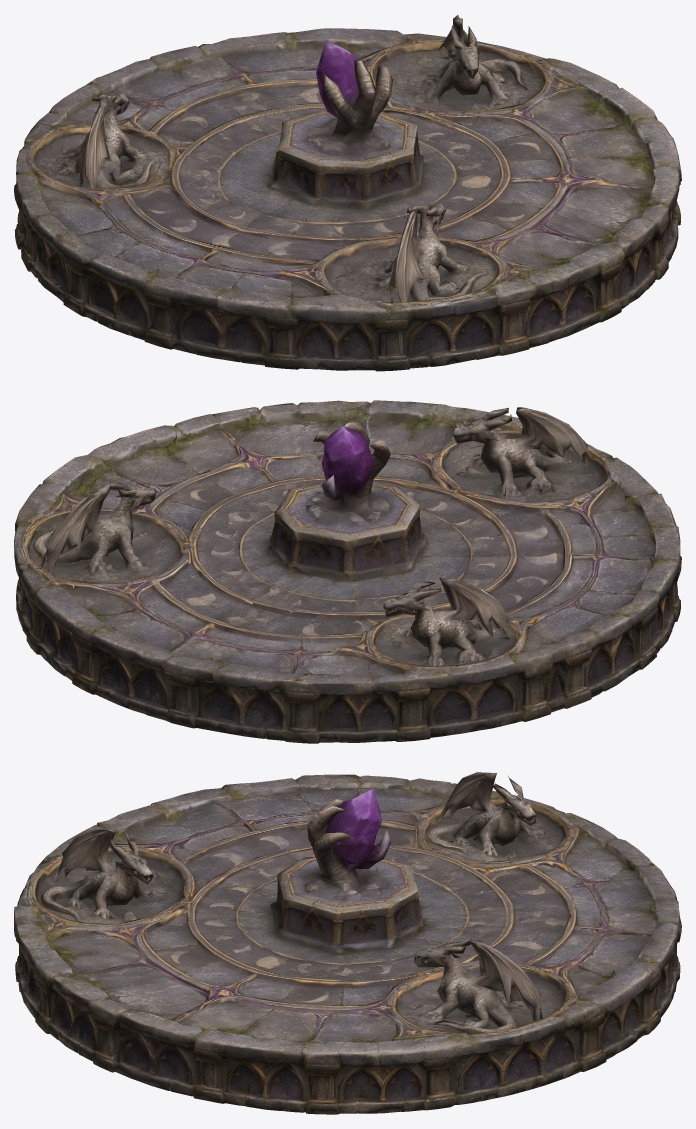
Rendered from altarWestern_source.glb.
3 views of the same model, one above another, from view 1: azimuth 30°, elevation 25°; view 2: azimuth 150°, elevation 25°; view 3: azimuth 270°, elevation 25° (orthographic).
Parts seen in each view (by area): view 1: tripo_node_b840d39c-0195-4039-8f7f-d245eb1707f8; view 2: tripo_node_b840d39c-0195-4039-8f7f-d245eb1707f8; view 3: tripo_node_b840d39c-0195-4039-8f7f-d245eb1707f8.
Boxes of the visible parts, box(x1,y1,x2,y2) form: tripo_node_b840d39c-0195-4039-8f7f-d245eb1707f8: box(14, 15, 681, 371); tripo_node_b840d39c-0195-4039-8f7f-d245eb1707f8: box(14, 400, 681, 743); tripo_node_b840d39c-0195-4039-8f7f-d245eb1707f8: box(14, 772, 681, 1114).
Size of the model in its own units: 0.9767 by 0.2951 by 0.9808.
Materials: 1 (1 with a texture image).
